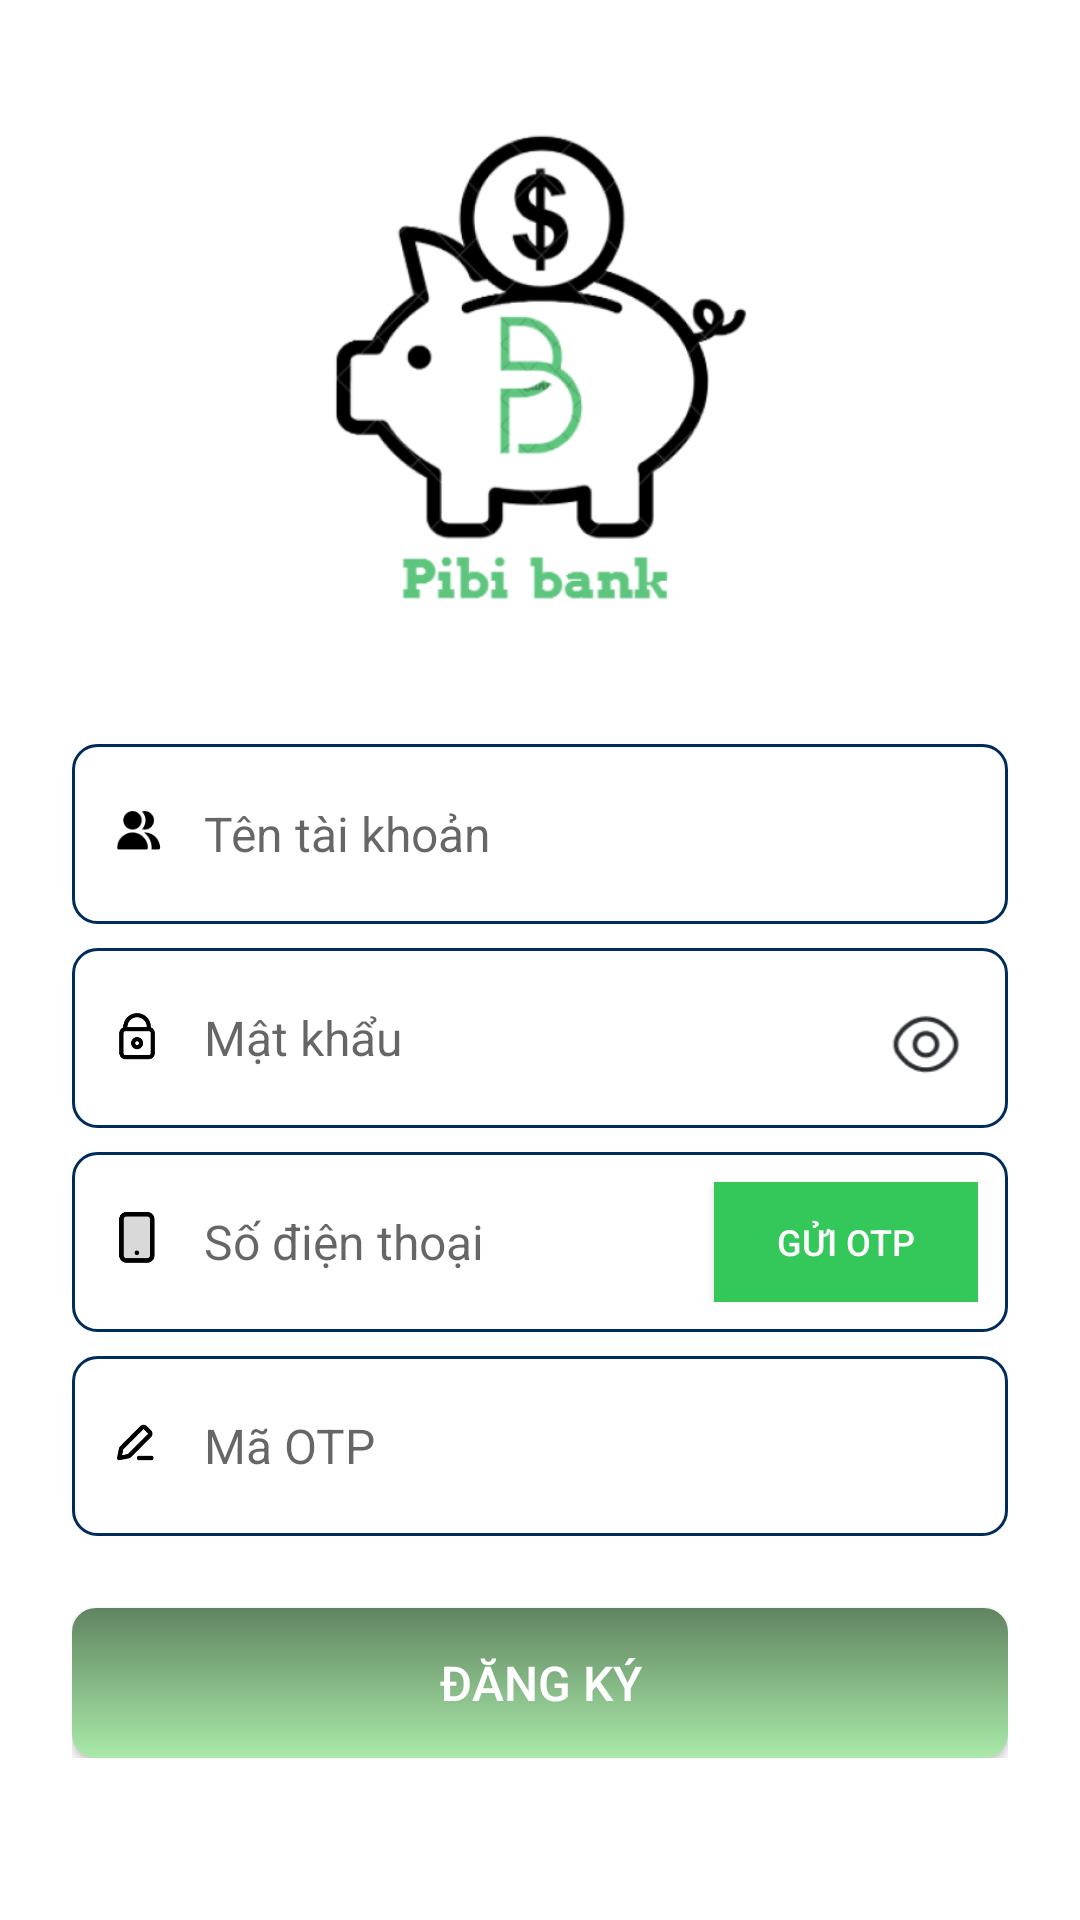

Named icons in this screenshot (1080×1920) and their bounding boxes, {"x1": x1, "y1": y1, "x2": x2, "y2": y2}:
edit: {"x1": 117, "y1": 1424, "x2": 154, "y2": 1461}
lock: {"x1": 119, "y1": 1013, "x2": 155, "y2": 1060}
phone: {"x1": 119, "y1": 1212, "x2": 155, "y2": 1263}
user: {"x1": 117, "y1": 811, "x2": 161, "y2": 850}
